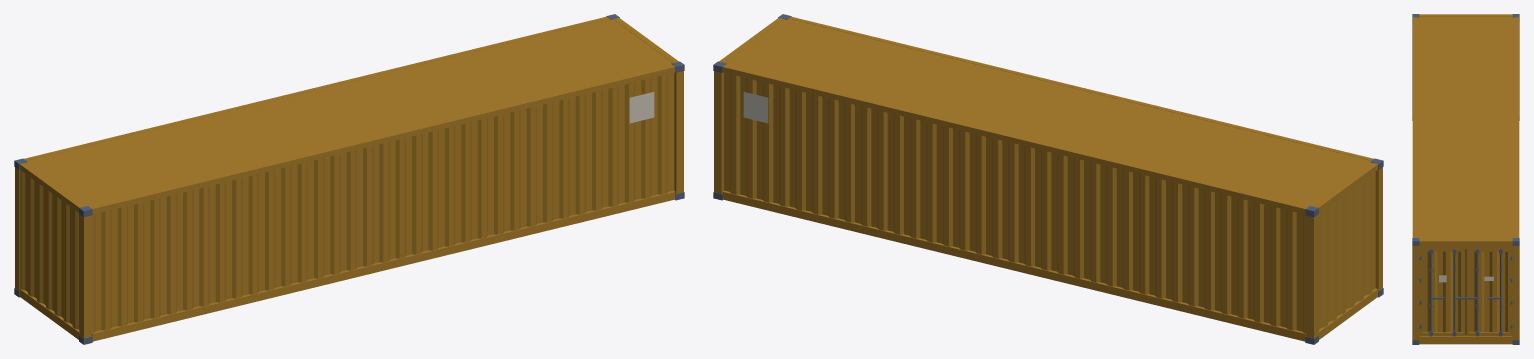
Rendered from port_container_40_ochre.glb.
The picture shows the model from 3 angles, left to right: view 1: azimuth 30°, elevation 25°; view 2: azimuth 150°, elevation 25°; view 3: azimuth 270°, elevation 25°; orthographic projection. The views are drawn at different scales.
Visible parts, largest first — view 1: shell, stencil, hardware; view 2: shell, stencil, hardware; view 3: shell, hardware, interior.
Part boxes in pixels (box(x1,y1,x2,y2)): shell: box(15, 16, 683, 341); stencil: box(629, 92, 654, 123); hardware: box(14, 14, 684, 344); shell: box(714, 16, 1382, 341); stencil: box(743, 92, 768, 123); hardware: box(713, 14, 1383, 344); shell: box(1412, 14, 1519, 344); hardware: box(1412, 14, 1519, 344); interior: box(1465, 249, 1466, 334).
Bounding box in the file's own units: 12.19 × 2.59 × 2.44.
